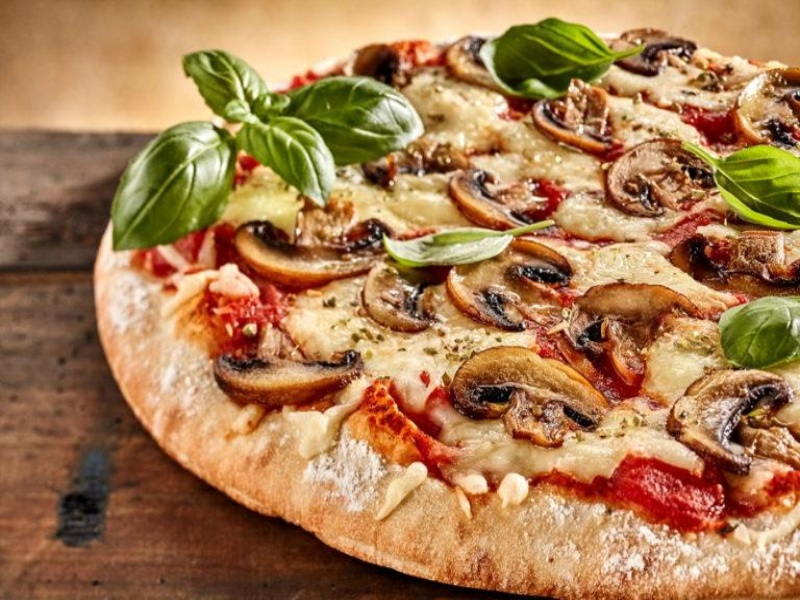champignon: (451, 346, 622, 449), (661, 363, 800, 475), (443, 235, 576, 337), (229, 212, 400, 284), (212, 341, 366, 406), (604, 141, 721, 222), (522, 75, 636, 157), (438, 164, 557, 231)
